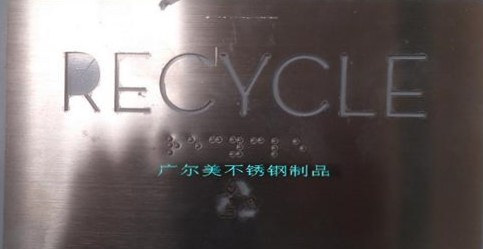Braille: (270, 137, 287, 159), (229, 136, 244, 159), (250, 136, 265, 159), (292, 137, 307, 159), (209, 136, 223, 158), (187, 136, 201, 157), (167, 135, 180, 157)
